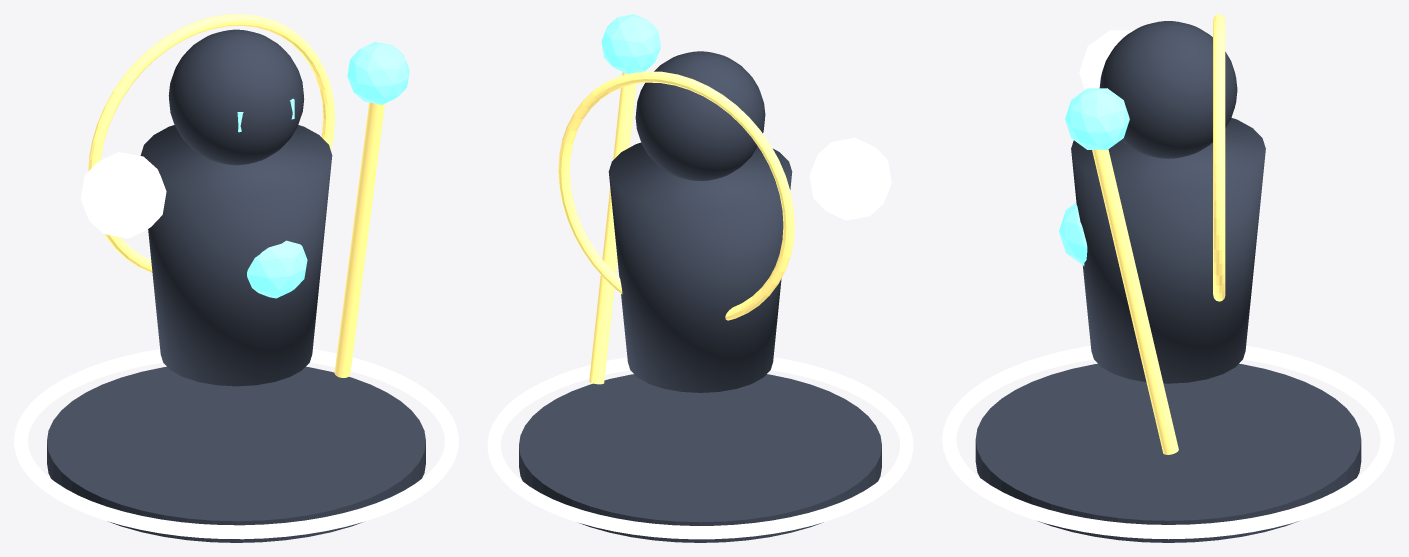
Rendered from ghostbyte.glb.
The picture shows the model from 3 angles, left to right: view 1: azimuth 30°, elevation 25°; view 2: azimuth 150°, elevation 25°; view 3: azimuth 270°, elevation 25°; orthographic projection. The views are drawn at different scales.
Parts seen in each view (by area): view 1: AbilityPedestal, AgentTorso, AgentHead, AbilityAuraRing, Pet_GHOSTBYTE, SovereignHalo, SignatureWeapon, WeaponApex, AgentCore; view 2: AbilityPedestal, AgentTorso, AgentHead, AbilityAuraRing, SovereignHalo, Pet_GHOSTBYTE, SignatureWeapon, WeaponApex; view 3: AbilityPedestal, AgentTorso, AgentHead, AbilityAuraRing, SignatureWeapon, SovereignHalo, WeaponApex, Pet_GHOSTBYTE, AgentCore.
Boxes of the visible parts, x1,y1,x2,y2 form: AbilityPedestal: (47, 366, 425, 542); AgentTorso: (140, 125, 332, 386); AgentHead: (168, 29, 304, 165); AbilityAuraRing: (14, 349, 458, 539); Pet_GHOSTBYTE: (80, 152, 166, 238); SovereignHalo: (88, 14, 334, 272); SignatureWeapon: (334, 102, 384, 377); WeaponApex: (347, 42, 409, 104); AgentCore: (247, 240, 307, 298); AbilityPedestal: (519, 374, 881, 542); AgentTorso: (608, 142, 792, 392); AgentHead: (635, 51, 765, 181); AbilityAuraRing: (487, 357, 913, 539); SovereignHalo: (558, 71, 794, 320); Pet_GHOSTBYTE: (809, 137, 891, 220); SignatureWeapon: (589, 72, 636, 384); WeaponApex: (601, 14, 660, 74); AbilityPedestal: (975, 363, 1361, 542); AgentTorso: (1071, 118, 1265, 383); AgentHead: (1099, 21, 1237, 158); AbilityAuraRing: (942, 345, 1394, 539); SignatureWeapon: (1092, 149, 1178, 454); SovereignHalo: (1213, 14, 1225, 301); WeaponApex: (1065, 88, 1129, 149); Pet_GHOSTBYTE: (1079, 30, 1133, 89); AgentCore: (1059, 203, 1087, 265).
Bounding box in the file's own units: 2.23 × 2.36 × 2.23.
